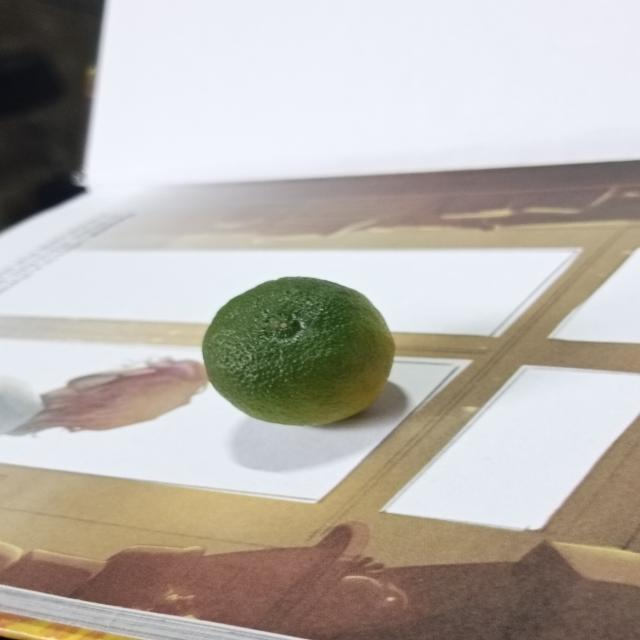heathy: (198, 269, 400, 429)
